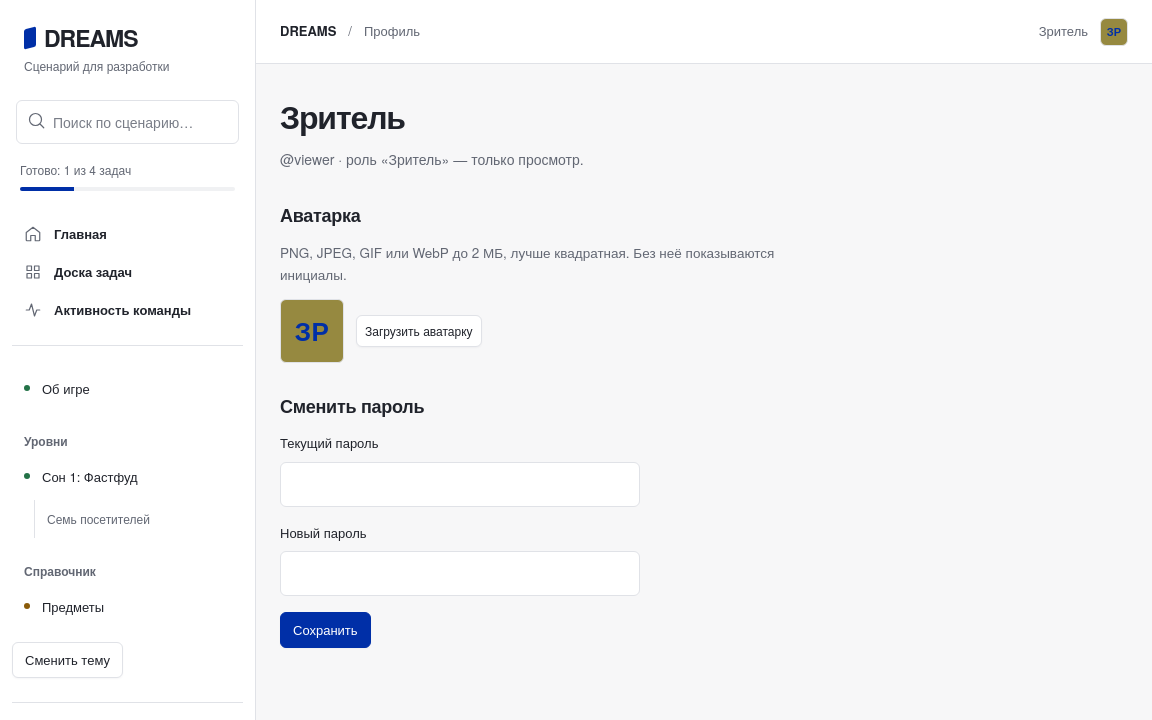
Scenario: AccountPage › changes the password
Type "old123" into the password field labelled "Текущий пароль" at (460, 484), box 280,462 -> 640,507
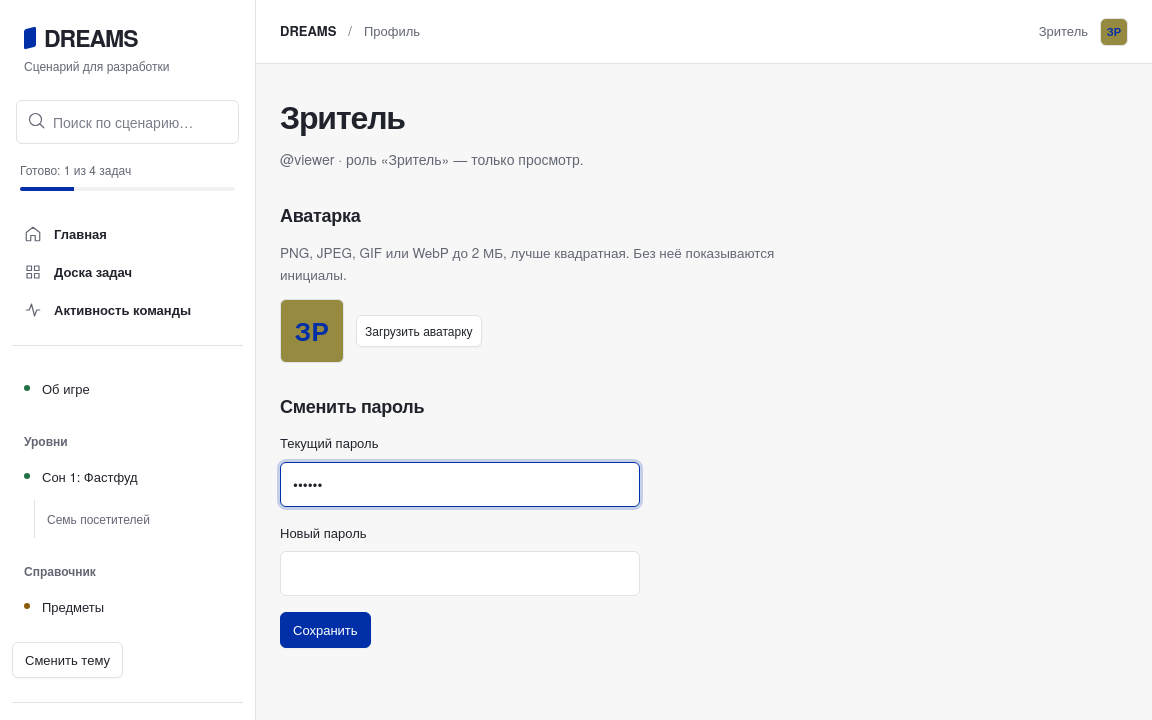
Type "new123" into the password field labelled "Новый пароль" at (460, 574), box 280,552 -> 640,596
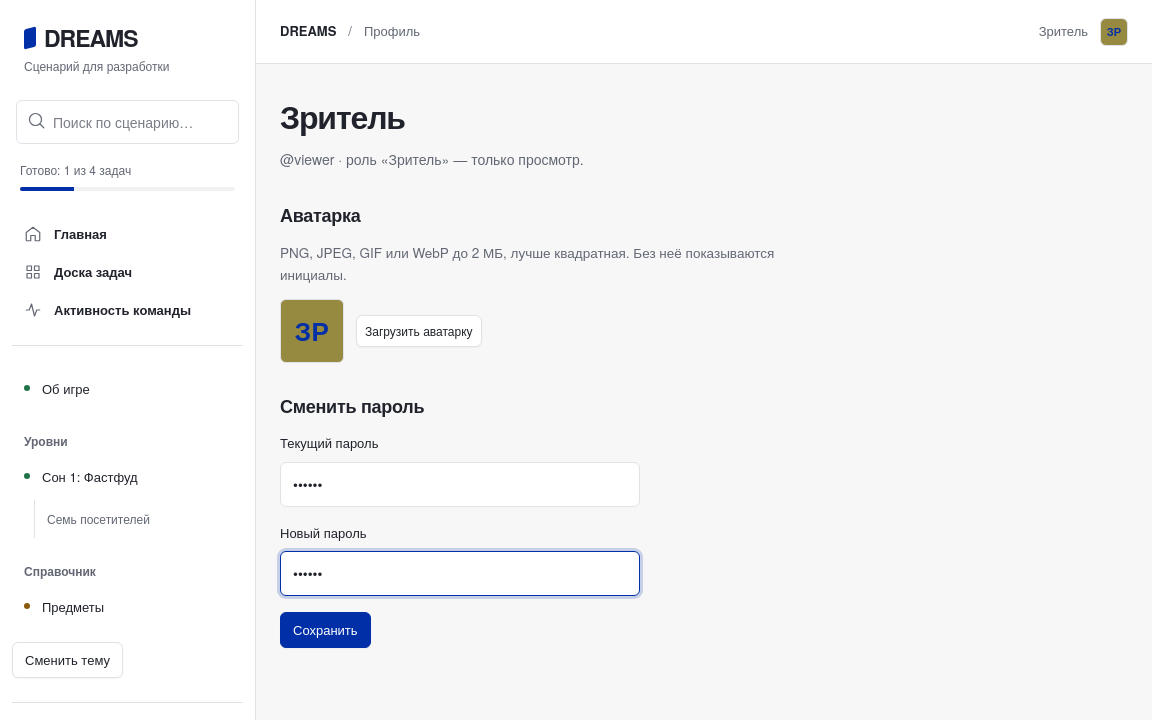
Click the button "Сохранить" at (325, 630), box 280,612 -> 371,648
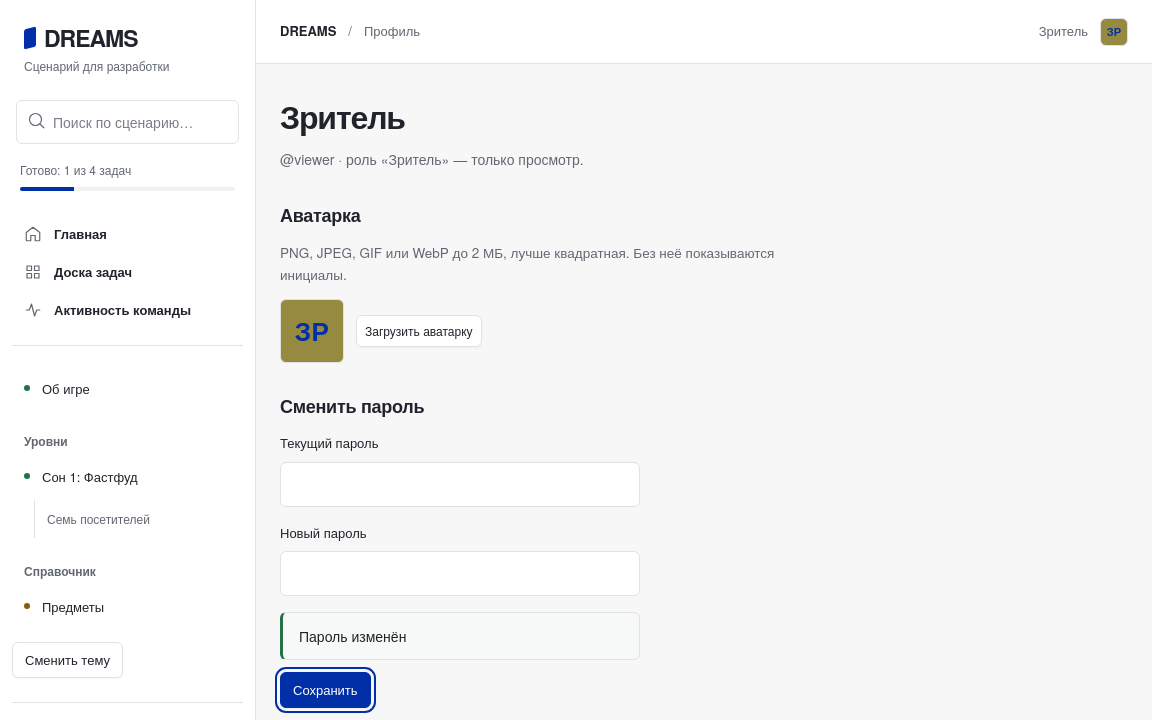
Expected: the message reads "Пароль изменён", 299,626 -> 406,646
